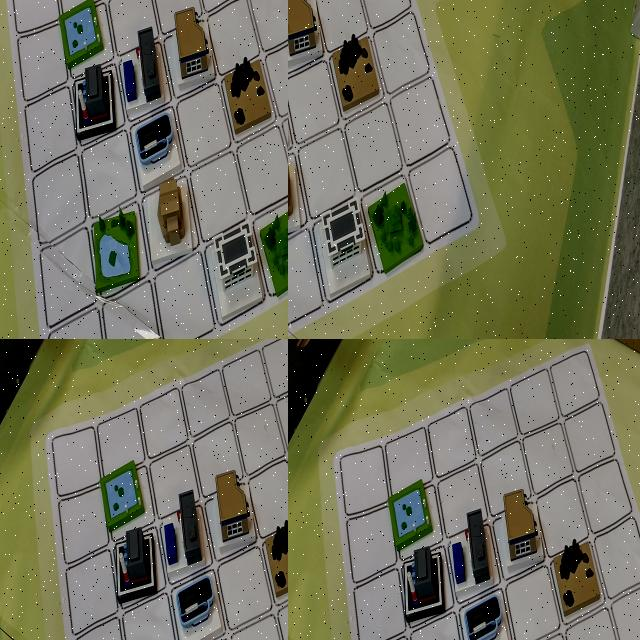bus_stop: (153, 498, 222, 594), (319, 100, 379, 196), (445, 505, 498, 595), (224, 13, 273, 95)
factory: (129, 569, 208, 640), (367, 70, 418, 162), (399, 538, 450, 630), (231, 0, 275, 41)
fish_pool: (61, 564, 139, 640), (390, 151, 447, 247), (384, 478, 434, 547)
forest: (78, 138, 128, 226), (288, 0, 313, 52)
gogo_shop: (212, 506, 284, 610), (308, 46, 362, 120), (183, 15, 227, 96), (459, 590, 513, 640)
research_build: (86, 54, 136, 141), (288, 0, 312, 45)
restaurant: (175, 419, 238, 524), (492, 481, 547, 573), (218, 80, 268, 168), (288, 124, 324, 231)
silicate_rock: (551, 532, 606, 622), (173, 146, 223, 234), (244, 402, 288, 494), (288, 94, 315, 182)
volunteer_center: (137, 10, 181, 85), (293, 0, 337, 50)
wet_land: (335, 0, 389, 39), (144, 0, 195, 38)
